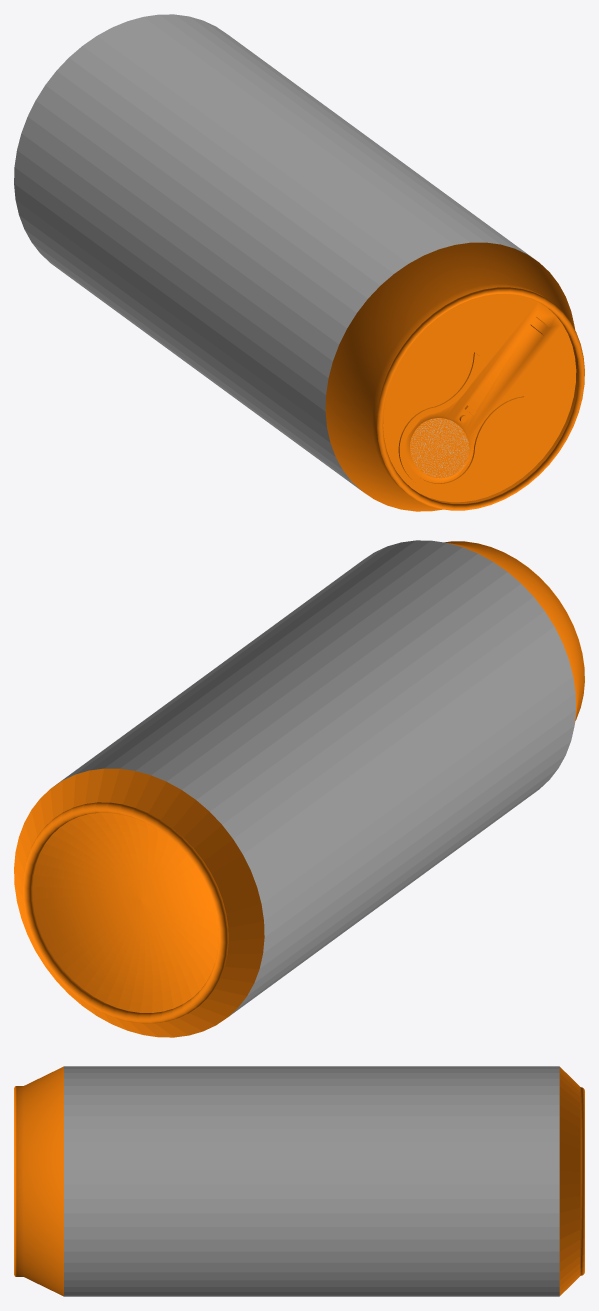
File: model_align.obj
The picture shows the model from 3 angles, top to bottom: view 1: azimuth 30°, elevation 25°; view 2: azimuth 150°, elevation 25°; view 3: azimuth 270°, elevation 25°; orthographic projection. The views are drawn at different scales.
Visible parts, largest first — view 1: mesh285_mesh285-geometry; view 2: mesh285_mesh285-geometry; view 3: mesh285_mesh285-geometry.
Part boxes in pixels (box(x1,y1,x2,y2)): mesh285_mesh285-geometry: box(14, 14, 584, 511); mesh285_mesh285-geometry: box(14, 540, 584, 1037); mesh285_mesh285-geometry: box(14, 1066, 584, 1296).
Bounding box in the file's own units: 0.054 × 0.054 × 0.134.
